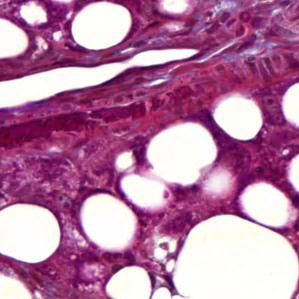steatosis: (75, 188, 139, 254), (64, 3, 138, 51), (211, 93, 269, 142)
